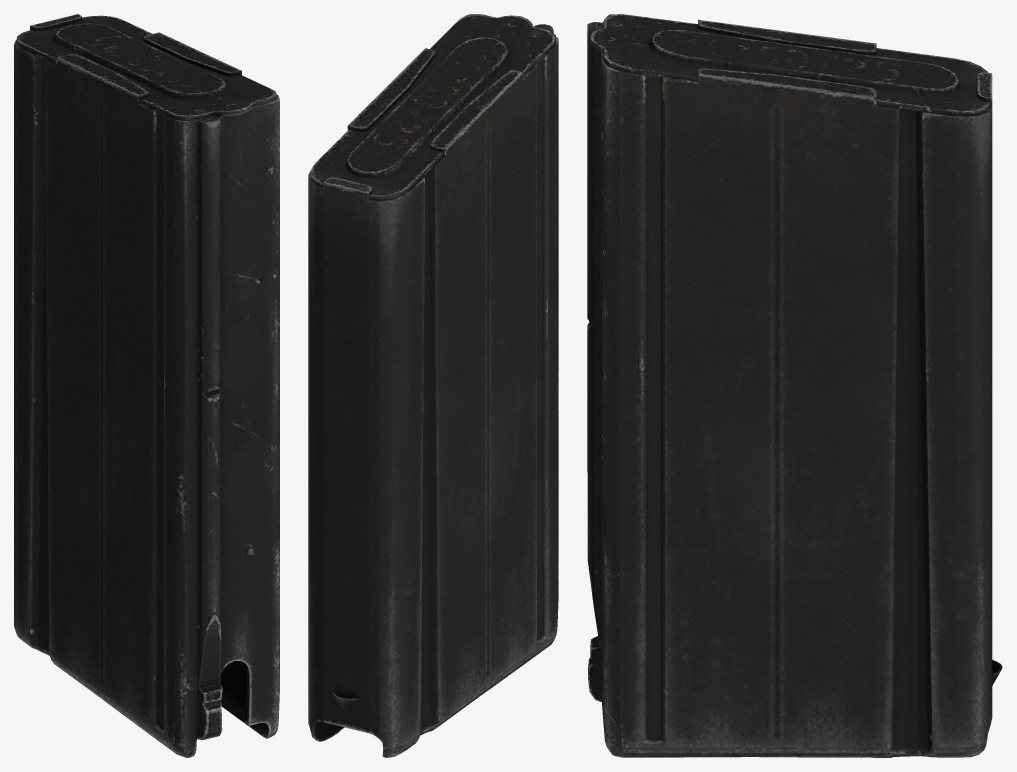
The picture shows the model from 3 angles, left to right: view 1: azimuth 30°, elevation 25°; view 2: azimuth 150°, elevation 25°; view 3: azimuth 270°, elevation 25°; orthographic projection. The views are drawn at different scales.
Visible parts, largest first — view 1: TW_5b099ac65acfc400186331e1_PZ_Import; view 2: TW_5b099ac65acfc400186331e1_PZ_Import; view 3: TW_5b099ac65acfc400186331e1_PZ_Import.
Boxes of the visible parts, bbox=[...] form: TW_5b099ac65acfc400186331e1_PZ_Import: bbox=[14, 14, 279, 757]; TW_5b099ac65acfc400186331e1_PZ_Import: bbox=[308, 14, 558, 757]; TW_5b099ac65acfc400186331e1_PZ_Import: bbox=[587, 14, 1002, 757].
Size of the model in its own units: 0.0148 by 0.0478 by 0.089.
Materials: 1 (1 with a texture image).
